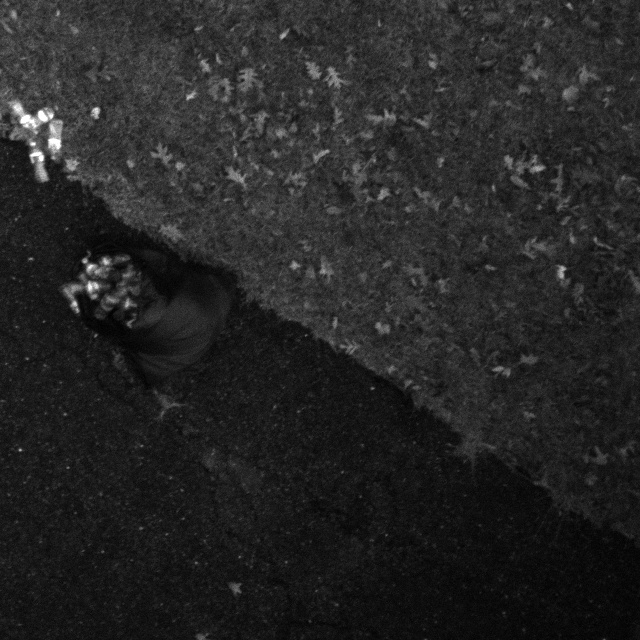bottle: (40, 114, 65, 162), (64, 276, 110, 302), (79, 254, 109, 288), (58, 277, 81, 316)
